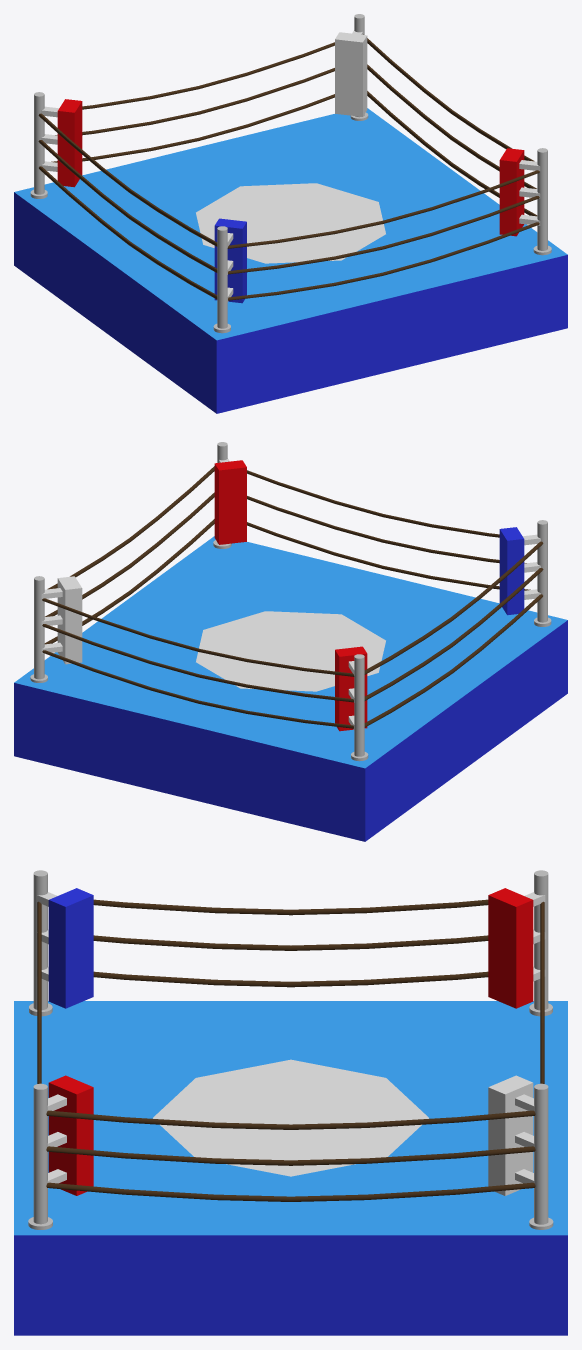
Rendered from RingBoxing.fbx.
The picture shows the model from 3 angles, top to bottom: view 1: azimuth 30°, elevation 25°; view 2: azimuth 150°, elevation 25°; view 3: azimuth 270°, elevation 25°; orthographic projection. The views are drawn at different scales.
Parts seen in each view (by area): view 1: Ring; view 2: Ring; view 3: Ring.
Part boxes in pixels (box(x1,y1,x2,y2)): Ring: box(14, 14, 567, 413); Ring: box(14, 442, 567, 841); Ring: box(14, 870, 567, 1335).
Size of the model in its own units: 500 by 237 by 500.
